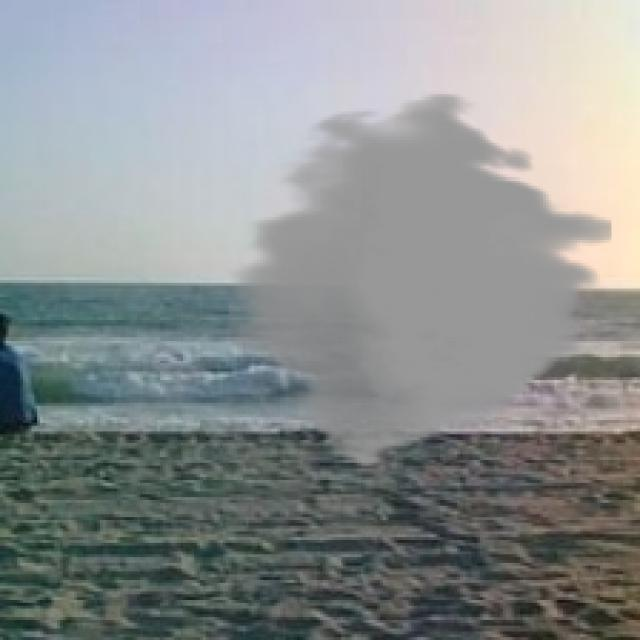Smoke: (228, 91, 612, 468)
